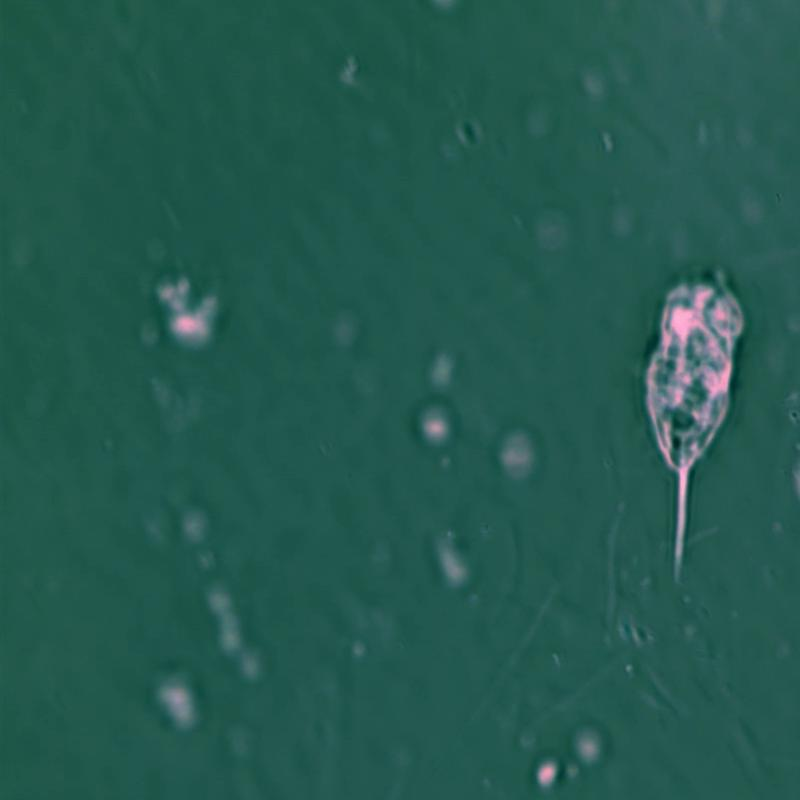depth:20: (622, 240, 784, 613)
